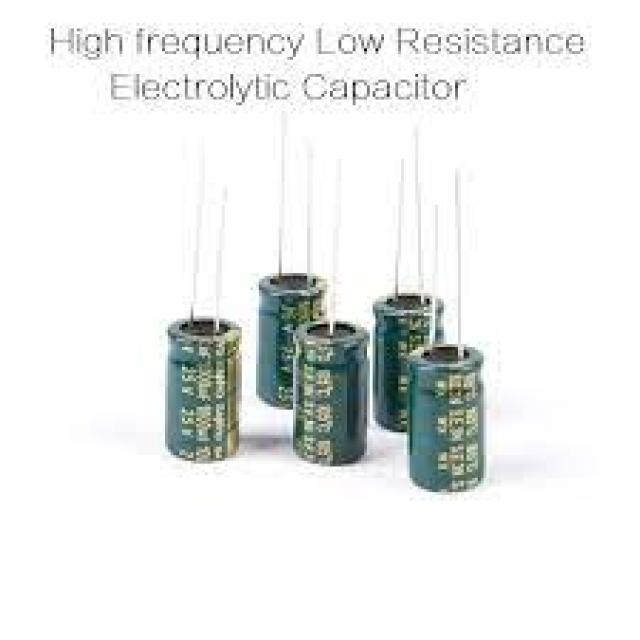Capacitor: (408, 169, 484, 491), (165, 145, 241, 461), (292, 161, 369, 464), (372, 128, 444, 431), (256, 114, 325, 408)
